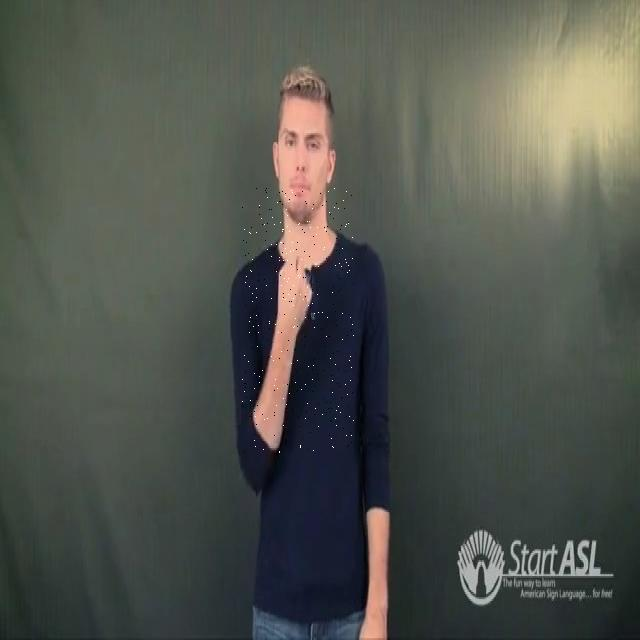bitter: (242, 188, 354, 454)
